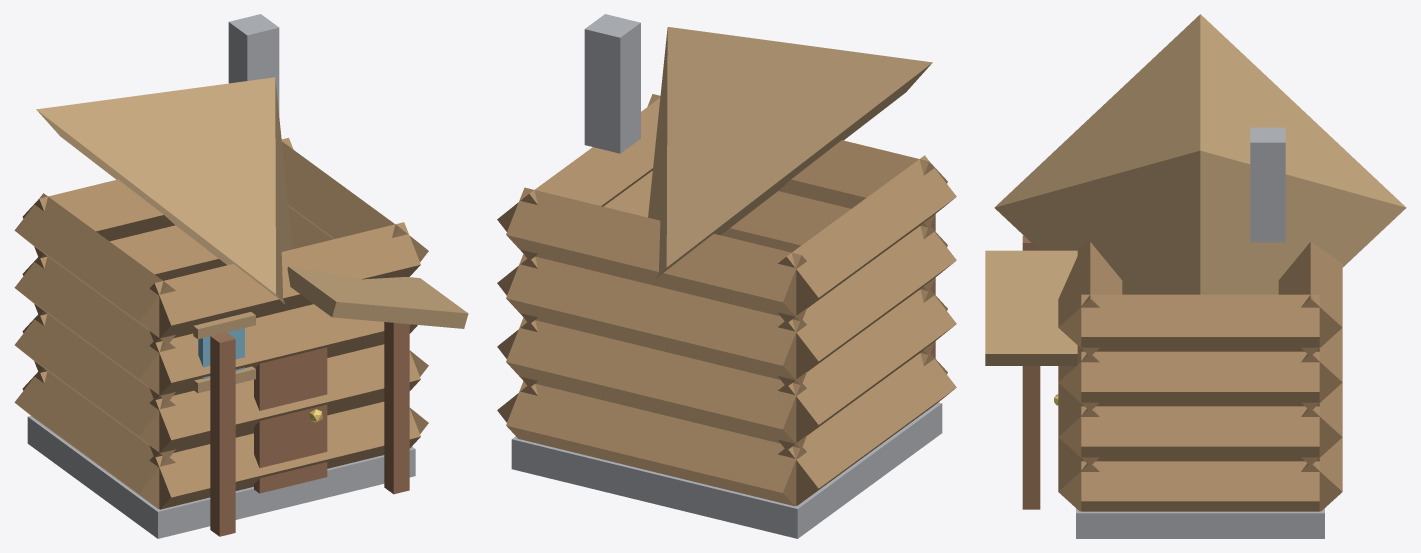
File: cabin.glb
3 views of the same model, side by side, from view 1: azimuth 30°, elevation 25°; view 2: azimuth 150°, elevation 25°; view 3: azimuth 270°, elevation 25° (orthographic). The views are drawn at different scales.
Visible parts, largest first — view 1: hip_roof, log.012, base, log.004, log.008, log, log.014, door.001, log.010, log.006, log.002, porch_roof (+9 smaller); view 2: hip_roof, log.005, log.009, log.013, log.001, base, log.014, log.010, log.006, log.002, chimney.001, log.015 (+3 smaller); view 3: hip_roof, log.015, log.007, log.011, log.003, porch_roof, base, chimney.001, log.013, log.012, porch_post.001, log.009 (+5 smaller).
Boxes of the visible parts, bbox=[...] form: hip_roof: bbox=[36, 77, 292, 304]; log.012: bbox=[149, 222, 420, 342]; base: bbox=[27, 416, 415, 538]; log.004: bbox=[149, 344, 420, 457]; log.008: bbox=[149, 304, 417, 400]; log: bbox=[149, 401, 420, 509]; log.014: bbox=[14, 193, 175, 343]; door.001: bbox=[254, 347, 327, 493]; log.010: bbox=[14, 257, 175, 401]; log.006: bbox=[14, 314, 175, 458]; log.002: bbox=[14, 371, 175, 508]; porch_roof: bbox=[287, 266, 468, 328]; hip_roof: bbox=[648, 27, 932, 278]; log.005: bbox=[506, 317, 806, 449]; log.009: bbox=[506, 254, 806, 384]; log.013: bbox=[506, 187, 806, 321]; log.001: bbox=[506, 381, 806, 506]; base: bbox=[511, 402, 942, 538]; log.014: bbox=[778, 155, 956, 322]; log.010: bbox=[778, 226, 956, 386]; log.006: bbox=[778, 289, 956, 449]; log.002: bbox=[778, 353, 956, 505]; chimney.001: bbox=[584, 14, 640, 153]; log.015: bbox=[497, 98, 660, 260]; hip_roof: bbox=[994, 14, 1406, 294]; log.015: bbox=[1081, 294, 1319, 351]; log.007: bbox=[1081, 406, 1319, 461]; log.011: bbox=[1081, 351, 1319, 406]; log.003: bbox=[1081, 461, 1319, 511]; porch_roof: bbox=[985, 250, 1077, 365]; base: bbox=[1076, 508, 1324, 538]; chimney.001: bbox=[1250, 127, 1285, 242]; log.013: bbox=[1278, 241, 1342, 356]; log.012: bbox=[1058, 242, 1122, 355]; porch_post.001: bbox=[1022, 366, 1040, 509]; log.009: bbox=[1301, 328, 1342, 410].
Bounding box in the file's own units: 2.05 × 2.35 × 2.37.
